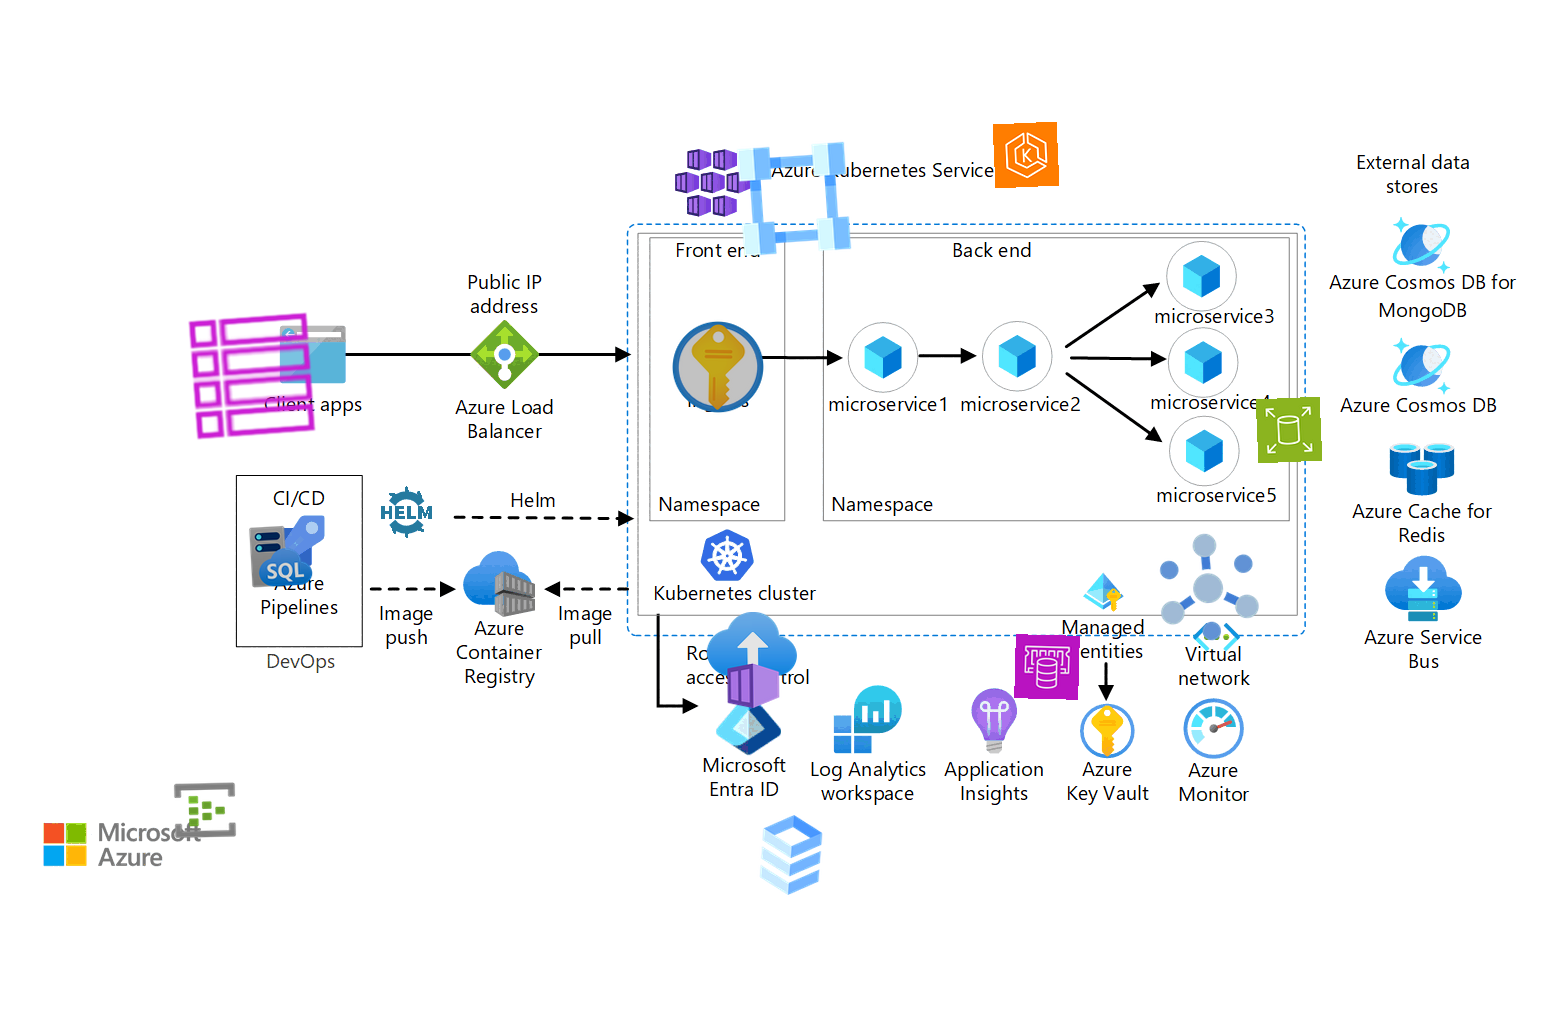aws_amazon_elastic_block_store: (1255, 395, 1323, 464)
aws_amazon_elastic_kubernetes_service: (992, 121, 1060, 189)
aws_amazon_elasticache: (1014, 634, 1080, 700)
aws_dynamodb_table: (183, 307, 321, 445)
azure_container_instances: (703, 611, 801, 710)
azure_event_hubs: (172, 777, 238, 842)
azure_key_vaults: (669, 317, 766, 416)
azure_sql_managed_instance: (247, 522, 315, 590)
gcp_cloud_sql: (739, 803, 843, 907)
gcp_pubsub: (1138, 517, 1277, 657)
gcp_virtual_private_cloud: (725, 130, 863, 268)
